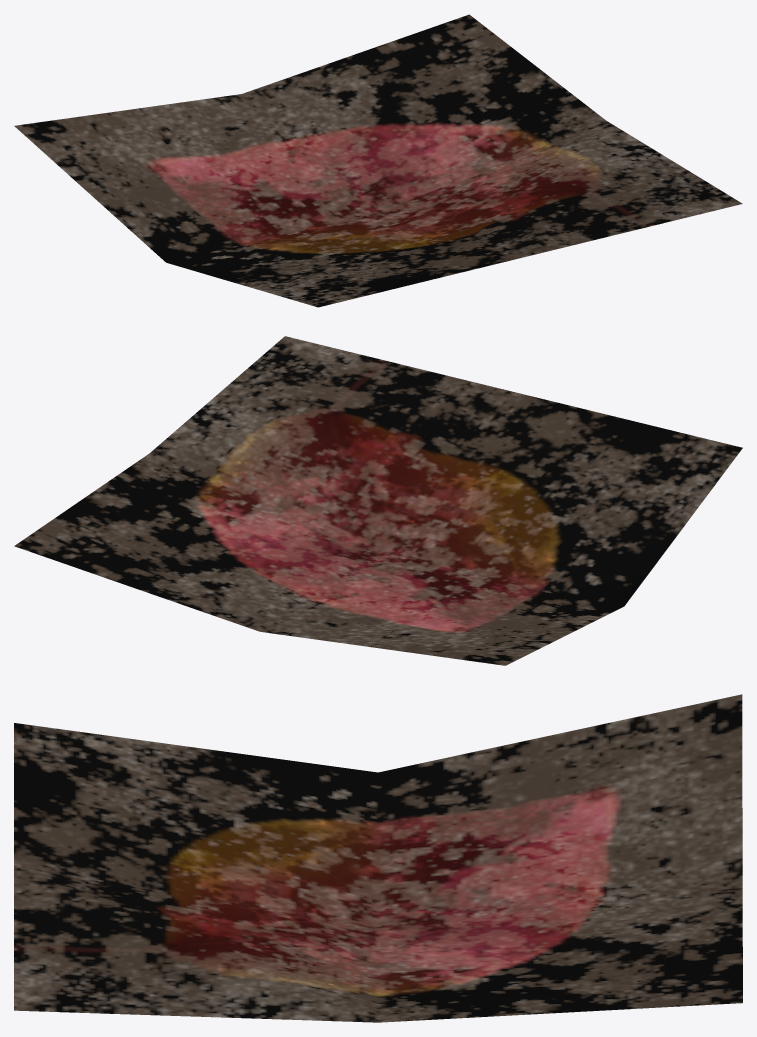
File: SM_Leaf04.FBX
3 renders of one model, top to bottom at view 1: azimuth 30°, elevation 25°; view 2: azimuth 150°, elevation 25°; view 3: azimuth 270°, elevation 25°, orthographic. The views are drawn at different scales.
Visible parts, largest first — view 1: SM_Leaves004; view 2: SM_Leaves004; view 3: SM_Leaves004.
Boxes of the visible parts, x1,y1,x2,y2 form: SM_Leaves004: [14, 14, 742, 307]; SM_Leaves004: [14, 336, 742, 665]; SM_Leaves004: [14, 694, 742, 1022].
Bounding box in the file's own units: 5.93 × 0.5589 × 5.78.
